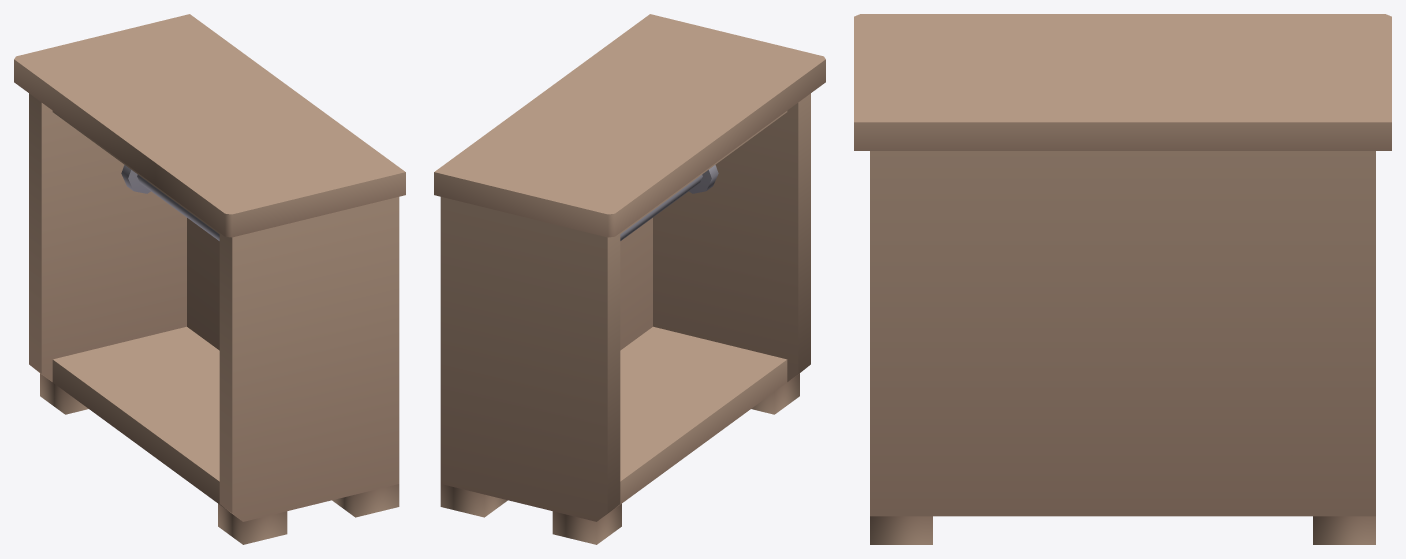
File: cabinet-clothing-classic-low.glb
The picture shows the model from 3 angles, left to right: view 1: azimuth 30°, elevation 25°; view 2: azimuth 150°, elevation 25°; view 3: azimuth 270°, elevation 25°; orthographic projection. The views are drawn at different scales.
Parts seen in each view (by area): view 1: cabinet-clothing-classic-low; view 2: cabinet-clothing-classic-low; view 3: cabinet-clothing-classic-low.
Part boxes in pixels (x1,y1,x2,y2): cabinet-clothing-classic-low: [14, 14, 405, 544]; cabinet-clothing-classic-low: [434, 14, 825, 544]; cabinet-clothing-classic-low: [854, 14, 1391, 544].
Bounding box in the file's own units: 0.405 × 0.737 × 0.85.
